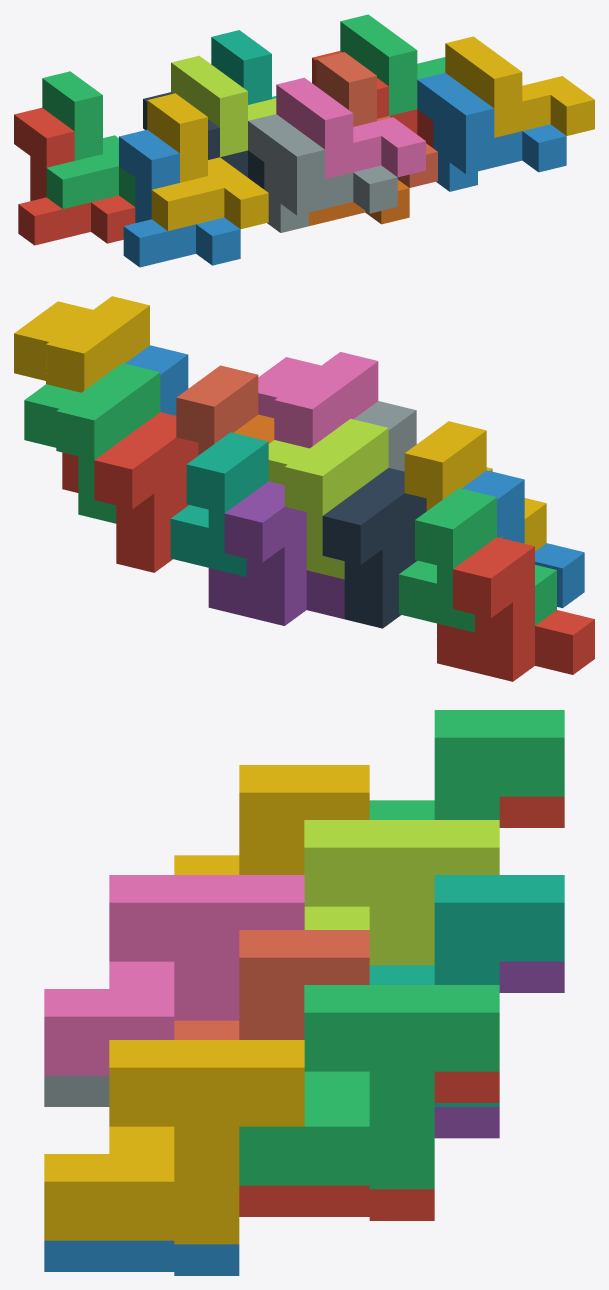
File: tiling.obj
3 renders of one model, top to bottom at view 1: azimuth 30°, elevation 25°; view 2: azimuth 150°, elevation 25°; view 3: azimuth 270°, elevation 25°, orthographic. The views are drawn at different scales.
Visible parts, largest first — view 1: copy_1_domain_4, copy_2_domain_2, copy_2_domain_6, copy_2_domain_4, copy_2_domain_8, copy_1_domain_2, copy_1_domain_1, copy_1_domain_3, copy_2_domain_7, copy_2_domain_3, copy_1_domain_8, copy_1_domain_7 (+3 smaller); view 2: copy_1_domain_1, copy_1_domain_5, copy_2_domain_5, copy_2_domain_1, copy_2_domain_7, copy_1_domain_3, copy_2_domain_8, copy_2_domain_3, copy_1_domain_7, copy_2_domain_4, copy_1_domain_4, copy_1_domain_8 (+4 smaller); view 3: copy_2_domain_8, copy_2_domain_7, copy_2_domain_4, copy_2_domain_3, copy_1_domain_7, copy_1_domain_3, copy_1_domain_4, copy_1_domain_8, copy_2_domain_5, copy_2_domain_6, copy_1_domain_5, copy_1_domain_1 (+1 smaller).
Part boxes in pixels (<box>): copy_1_domain_4: <box>147,93,268,230</box>; copy_2_domain_2: <box>248,114,397,232</box>; copy_2_domain_6: <box>417,73,566,191</box>; copy_2_domain_4: <box>276,77,425,178</box>; copy_2_domain_8: <box>445,36,594,137</box>; copy_1_domain_2: <box>119,129,240,267</box>; copy_1_domain_1: <box>14,107,135,245</box>; copy_1_domain_3: <box>42,71,135,208</box>; copy_2_domain_7: <box>340,14,445,115</box>; copy_2_domain_3: <box>171,55,276,156</box>; copy_1_domain_8: <box>316,52,437,187</box>; copy_1_domain_7: <box>211,30,276,104</box>; copy_1_domain_1: <box>437,537,594,681</box>; copy_1_domain_5: <box>208,481,344,625</box>; copy_2_domain_5: <box>62,412,198,572</box>; copy_2_domain_1: <box>322,468,426,628</box>; copy_2_domain_7: <box>24,363,160,523</box>; copy_1_domain_3: <box>399,488,556,632</box>; copy_2_domain_8: <box>14,296,149,392</box>; copy_2_domain_3: <box>268,418,388,579</box>; copy_1_domain_7: <box>170,432,268,576</box>; copy_2_domain_4: <box>258,352,378,448</box>; copy_1_domain_4: <box>404,421,546,551</box>; copy_1_domain_8: <box>176,365,258,455</box>; copy_2_domain_8: <box>44,1040,304,1244</box>; copy_2_domain_7: <box>239,985,499,1189</box>; copy_2_domain_4: <box>44,875,304,1075</box>; copy_2_domain_3: <box>304,820,499,965</box>; copy_1_domain_7: <box>369,875,564,1106</box>; copy_1_domain_3: <box>369,710,564,819</box>; copy_1_domain_4: <box>174,765,369,874</box>; copy_1_domain_8: <box>174,930,369,1039</box>; copy_2_domain_5: <box>239,1071,499,1220</box>; copy_2_domain_6: <box>44,1240,239,1275</box>; copy_1_domain_5: <box>434,961,564,1138</box>; copy_1_domain_1: <box>499,796,564,827</box>.
Bounding box in the file's own units: 17 × 4 × 8.
